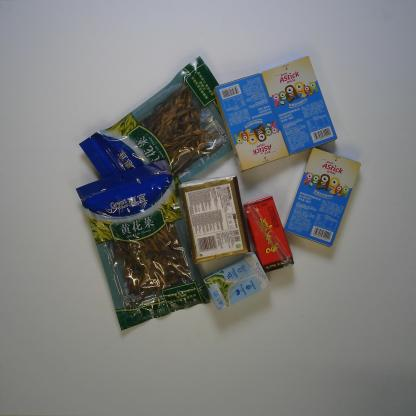Dessert: (282, 147, 363, 250), (260, 54, 339, 158), (212, 70, 290, 172)
Dried Food: (77, 158, 212, 334), (76, 55, 235, 186)
Drink: (244, 194, 294, 272)
Milk: (202, 251, 272, 310)
Tissue: (175, 176, 252, 264)
